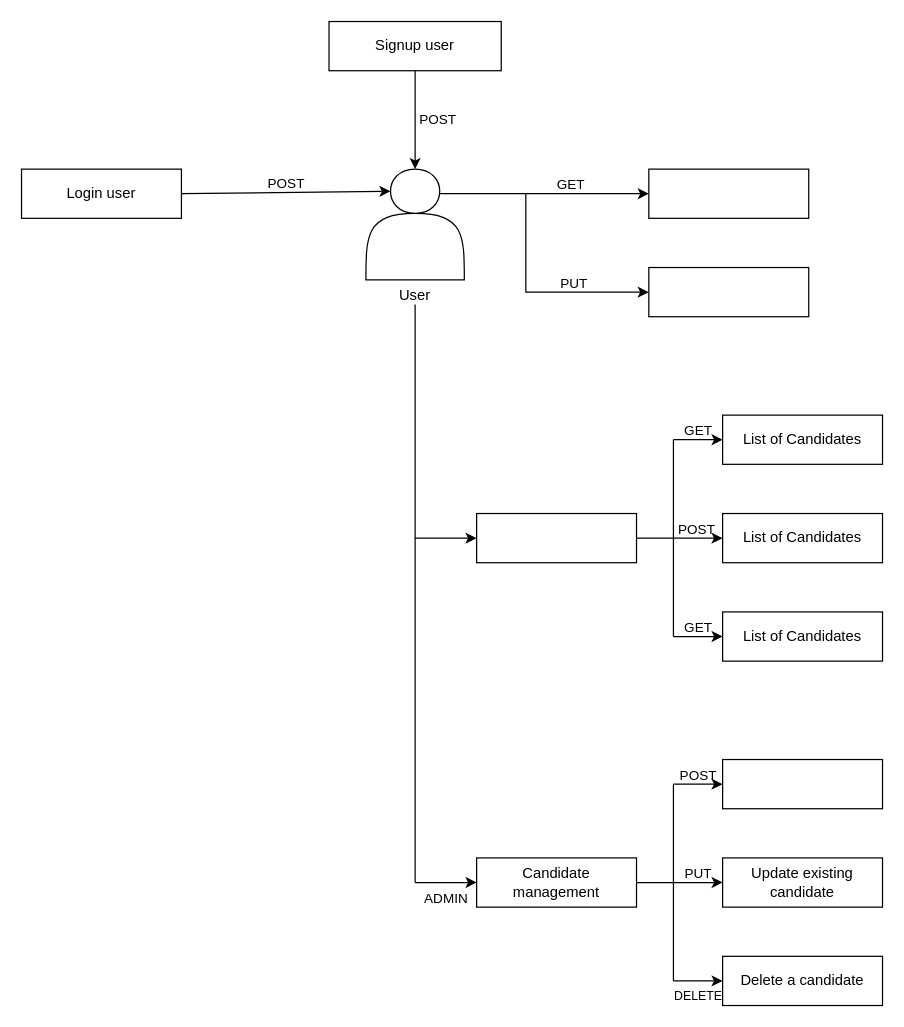
Some shapes in this 904 by 1027 pixel diagram are drawn without their labels. Each missing label, with the centre of its shape:
"Access profile" goes at (728,193).
"Create new candidate" goes at (802,783).
"Profile password change" goes at (728,291).
"Vote" goes at (556,537).
